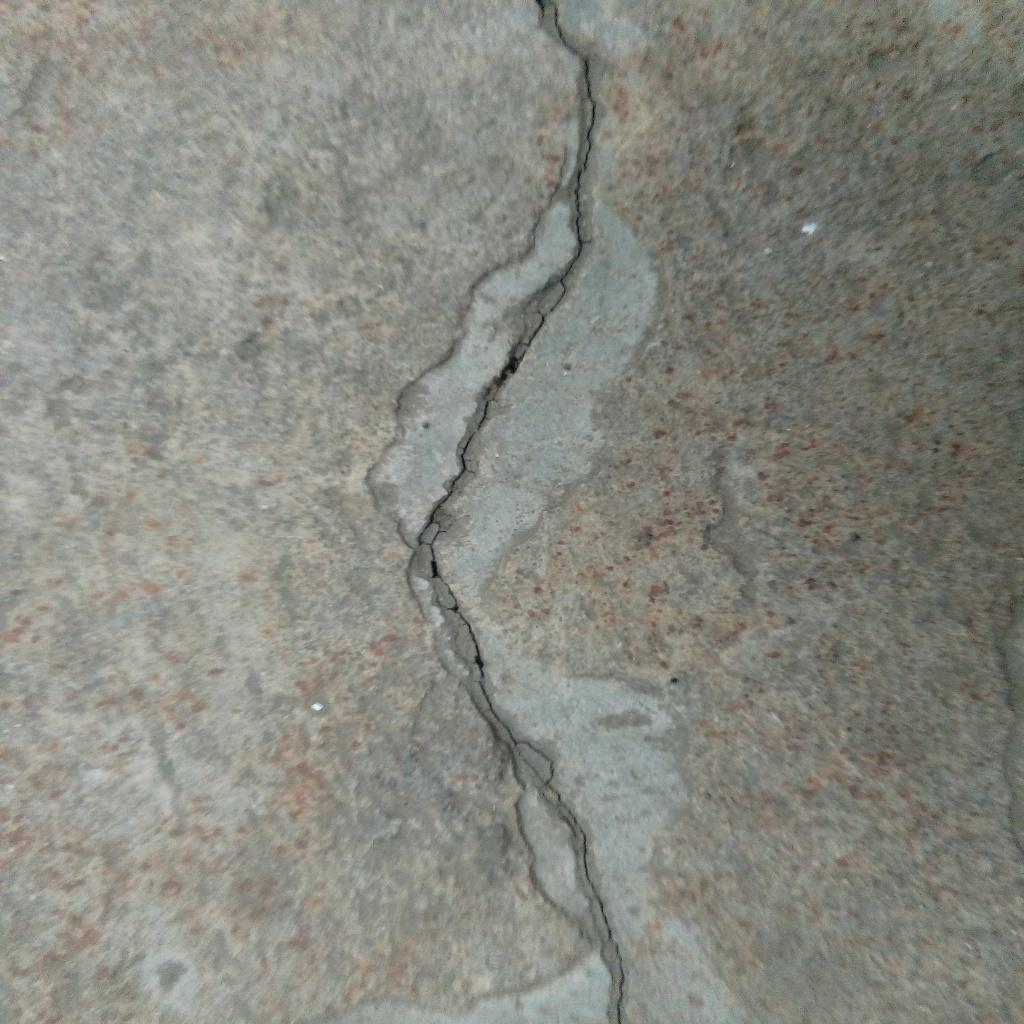Crack: (416, 1, 624, 1024)
